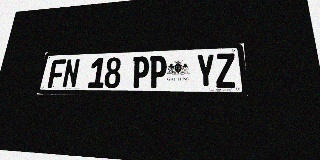1: (88, 58, 106, 88)
8: (103, 57, 122, 88)
F: (47, 59, 66, 88)
N: (62, 59, 80, 88)
P: (131, 56, 150, 88), (149, 55, 167, 88)
Y: (196, 54, 216, 88)
Z: (215, 53, 237, 88)
